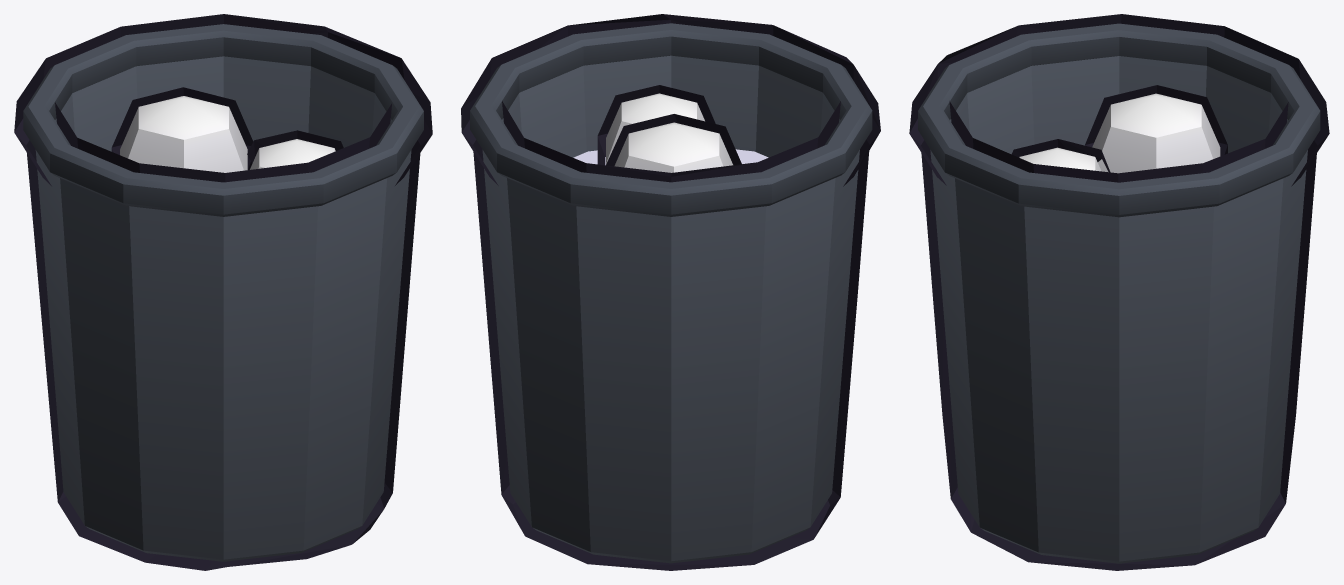
The model's file is Trash_Bin_Outline.fbx.
The picture shows the model from 3 angles, left to right: view 1: azimuth 30°, elevation 25°; view 2: azimuth 150°, elevation 25°; view 3: azimuth 270°, elevation 25°; orthographic projection.
Visible parts, largest first — view 1: Trash_Bin; view 2: Trash_Bin; view 3: Trash_Bin.
Boxes of the visible parts, x1,y1,x2,y2 form: Trash_Bin: (14,14,432,570); Trash_Bin: (461,14,880,570); Trash_Bin: (909,14,1329,570).
Size of the model in its own units: 1.53 by 1.64 by 1.53.
1 material, 1 textured.
